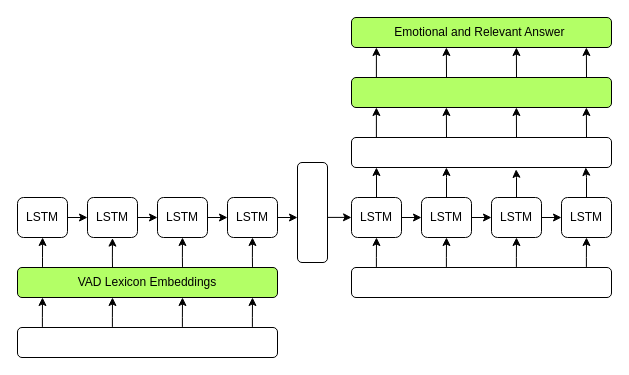
Image size: 629x375. Some labels were removed from this diagram. Each missing label, with the box of its shape:
Encoder States: (296, 162, 328, 262)
Input Answer: (350, 266, 612, 298)
Input Question (Context): (16, 326, 278, 358)
Softmax: (350, 136, 612, 168)
VAD Improvisation Layer: (350, 76, 612, 108)
